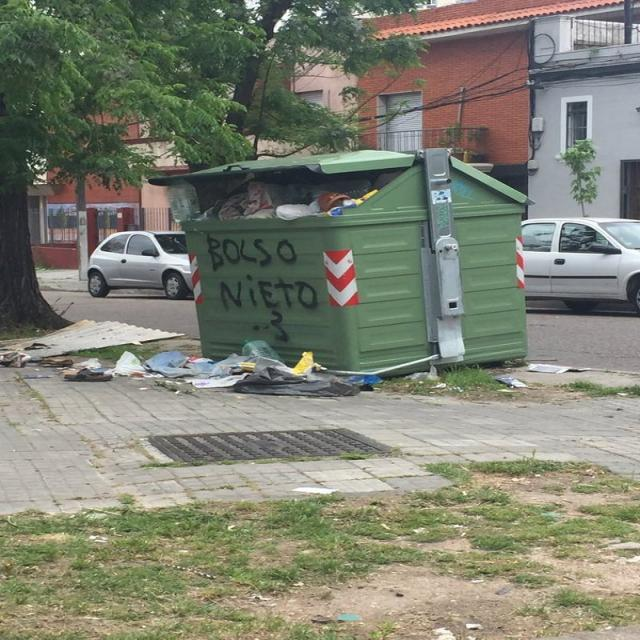garbage: (61, 344, 372, 400), (26, 314, 170, 358), (170, 184, 342, 213), (497, 358, 573, 400), (0, 339, 57, 366)
